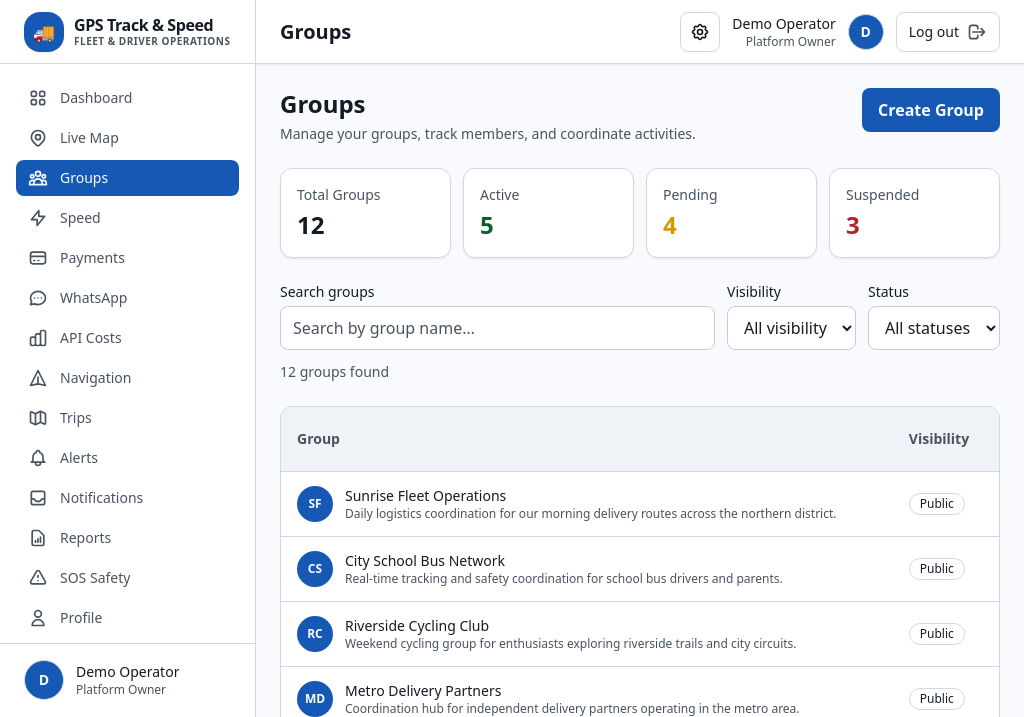
GroupsPage › Create Group button is enabled and opens wizard for Owner
The width and height of the screenshot is (1024, 717).
Click the button with aria-label "Create new group" at [931, 110], box 862,88 -> 1000,132
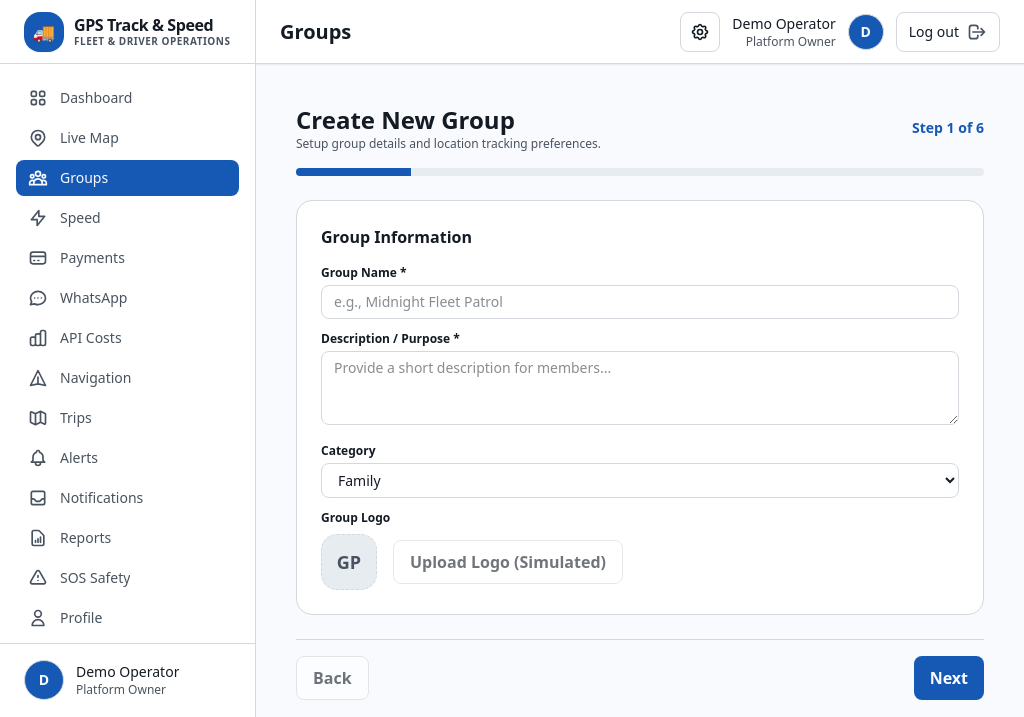
Now the heading "Group Information" is shown, box 321,226 -> 472,248
